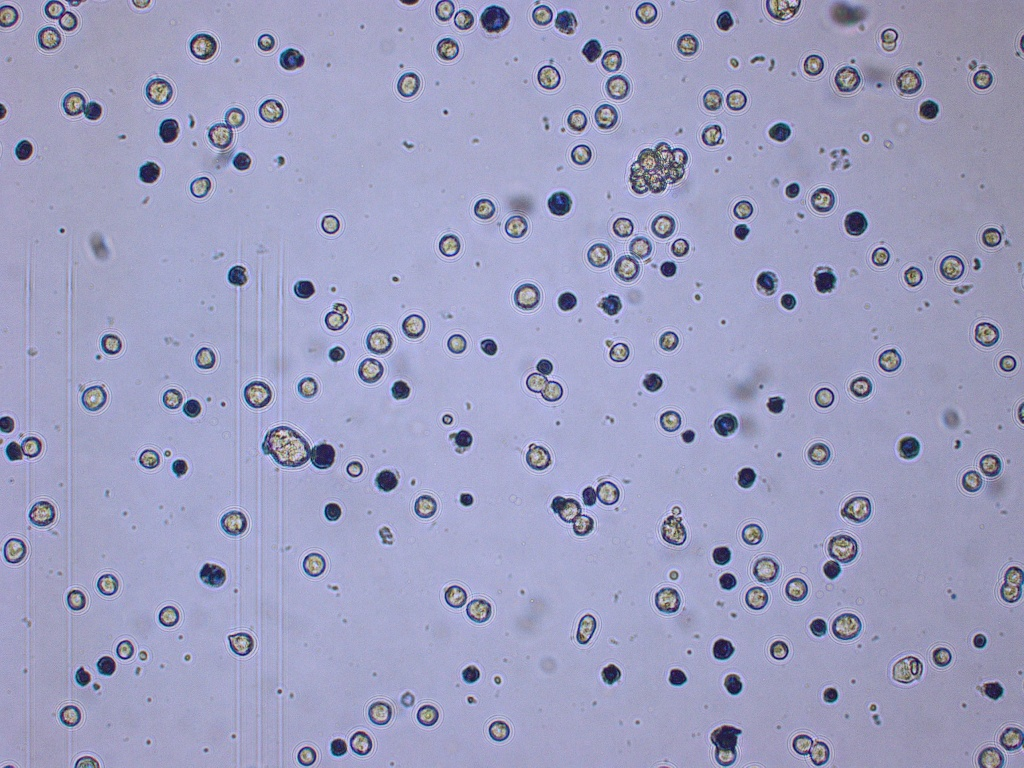Aggregate: (630, 143, 688, 197)
Alive: (264, 426, 308, 468), (832, 612, 862, 640), (828, 534, 857, 561), (893, 657, 923, 682), (660, 517, 687, 544), (845, 495, 871, 523), (30, 499, 56, 526), (190, 33, 216, 60), (147, 78, 173, 105), (765, 1, 800, 21), (221, 510, 247, 536), (245, 382, 271, 408), (939, 254, 964, 281), (513, 283, 541, 307), (833, 67, 861, 91), (615, 256, 640, 281), (367, 328, 392, 353), (259, 99, 285, 123), (999, 727, 1024, 751), (655, 587, 679, 612), (209, 123, 234, 147), (651, 214, 674, 240), (357, 359, 383, 382), (83, 384, 106, 410), (976, 746, 1003, 768), (587, 243, 611, 267), (402, 314, 426, 338), (526, 446, 551, 469), (466, 600, 492, 622), (577, 614, 595, 645), (538, 65, 561, 89), (606, 75, 629, 99), (754, 558, 778, 581), (745, 587, 768, 611), (786, 578, 809, 602), (596, 480, 619, 504), (350, 731, 373, 755), (398, 71, 420, 96), (897, 71, 922, 93), (594, 105, 617, 128), (676, 33, 699, 56), (974, 322, 997, 345), (505, 214, 527, 238), (436, 38, 460, 60), (634, 2, 658, 24), (812, 187, 834, 211), (38, 26, 62, 48), (228, 634, 253, 655), (63, 92, 84, 117), (415, 494, 438, 516), (100, 333, 123, 355), (629, 236, 653, 257), (5, 538, 26, 562), (369, 702, 391, 724), (97, 574, 119, 596), (810, 741, 831, 764), (196, 345, 216, 369), (743, 524, 764, 546), (572, 515, 594, 536), (439, 234, 459, 257), (850, 376, 873, 396), (807, 444, 830, 464), (305, 553, 325, 576), (561, 497, 580, 521), (999, 583, 1023, 602), (475, 198, 495, 220), (570, 145, 592, 165), (726, 89, 746, 111), (879, 350, 899, 372), (612, 216, 634, 236), (488, 720, 510, 740), (603, 50, 622, 73), (702, 124, 721, 147), (978, 455, 1001, 474), (189, 178, 212, 197), (532, 5, 552, 26), (803, 54, 823, 75), (814, 387, 834, 408), (961, 471, 981, 492), (931, 647, 951, 668), (60, 705, 81, 725), (225, 106, 245, 127), (567, 108, 586, 130), (163, 387, 182, 409), (1, 3, 19, 26), (418, 705, 438, 725), (716, 747, 736, 767), (543, 382, 563, 402), (320, 214, 341, 233), (610, 341, 629, 362), (661, 409, 680, 430), (448, 333, 467, 354), (446, 585, 465, 606), (139, 450, 160, 469), (525, 373, 547, 391), (769, 641, 789, 660), (298, 377, 318, 396), (298, 747, 318, 766), (454, 10, 473, 29), (670, 238, 689, 257), (659, 332, 678, 351), (257, 33, 276, 52), (704, 89, 722, 109), (904, 266, 922, 286), (160, 606, 178, 626), (871, 247, 888, 268), (973, 71, 992, 89), (67, 589, 85, 608), (24, 437, 42, 456), (794, 734, 812, 753), (983, 227, 1000, 247), (60, 11, 78, 29), (436, 1, 453, 20), (45, 1, 64, 18), (325, 311, 345, 327), (734, 200, 751, 218), (347, 460, 364, 478), (1006, 565, 1023, 583), (117, 639, 133, 658), (1000, 354, 1016, 371)
Dead: (481, 5, 511, 32), (711, 725, 740, 752), (199, 562, 226, 586), (844, 210, 867, 236), (312, 443, 334, 469), (713, 413, 737, 436), (281, 48, 304, 71), (897, 437, 921, 459), (160, 117, 179, 144), (548, 192, 571, 214), (556, 10, 577, 33), (377, 469, 398, 491), (140, 162, 160, 184), (583, 38, 602, 61), (713, 638, 733, 659), (815, 273, 834, 294), (232, 152, 251, 172), (601, 295, 620, 315), (738, 467, 756, 488), (769, 123, 791, 140), (919, 100, 938, 119), (558, 291, 576, 311), (96, 657, 115, 675), (6, 441, 23, 461), (717, 11, 734, 31), (324, 502, 341, 521), (456, 430, 473, 449), (809, 618, 826, 637), (724, 673, 741, 692), (15, 140, 32, 158), (644, 373, 662, 390), (462, 665, 480, 682), (330, 737, 347, 755), (603, 664, 620, 682), (669, 668, 686, 686), (713, 546, 730, 564), (985, 680, 1002, 698), (229, 265, 245, 284), (295, 281, 314, 297), (479, 339, 497, 355), (392, 379, 408, 397), (85, 100, 101, 118), (185, 398, 200, 417), (582, 486, 597, 504), (824, 560, 839, 578), (330, 346, 346, 362), (823, 686, 839, 702), (768, 397, 784, 413), (720, 572, 735, 589), (781, 293, 796, 310), (1, 416, 16, 432), (660, 260, 675, 276), (735, 223, 749, 240), (77, 668, 90, 686), (785, 183, 800, 197), (538, 359, 552, 374), (973, 632, 987, 646), (173, 459, 186, 474), (461, 492, 473, 504), (683, 430, 694, 441), (1, 103, 6, 121)
